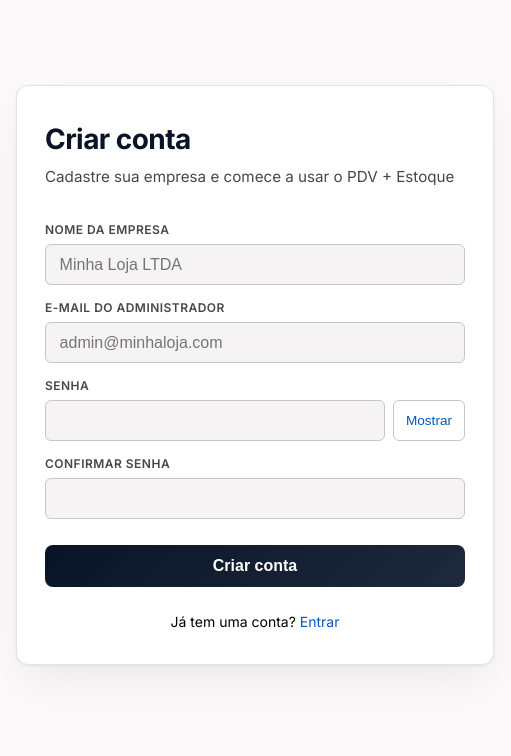
Test: RegisterTenantPage › exibe erros de validação quando campos obrigatórios estão vazios
Click the button "Criar conta" at (255, 566), box 45,545 -> 465,587
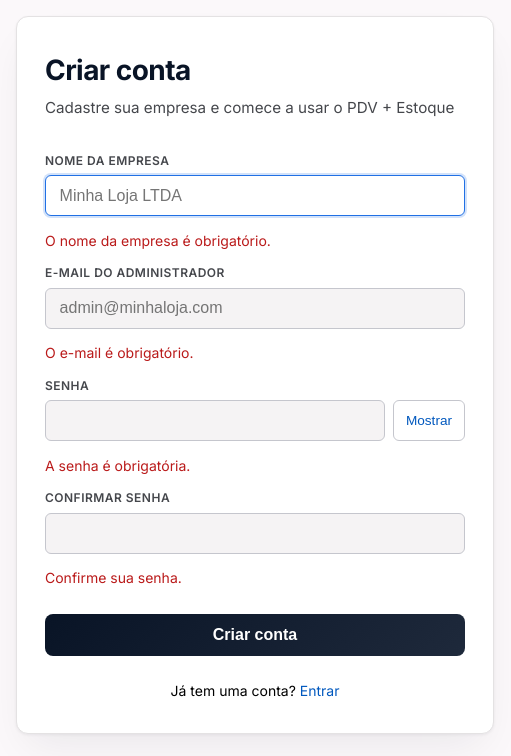
Result: the text "O nome da empresa é obrigatório." is shown at 45,232 -> 271,248
